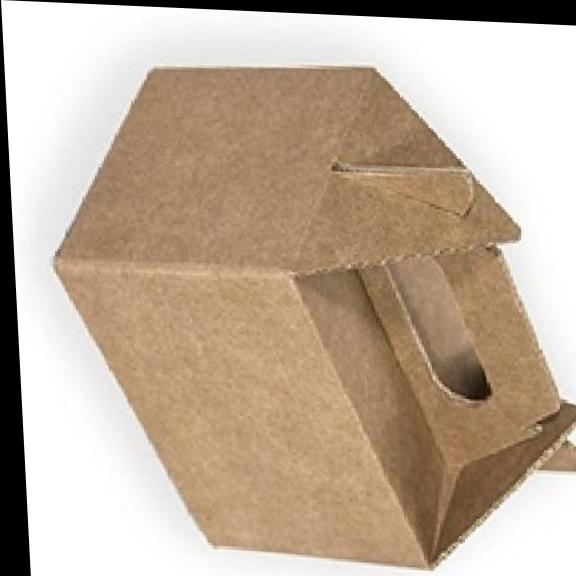Kertas: (59, 68, 576, 566)
